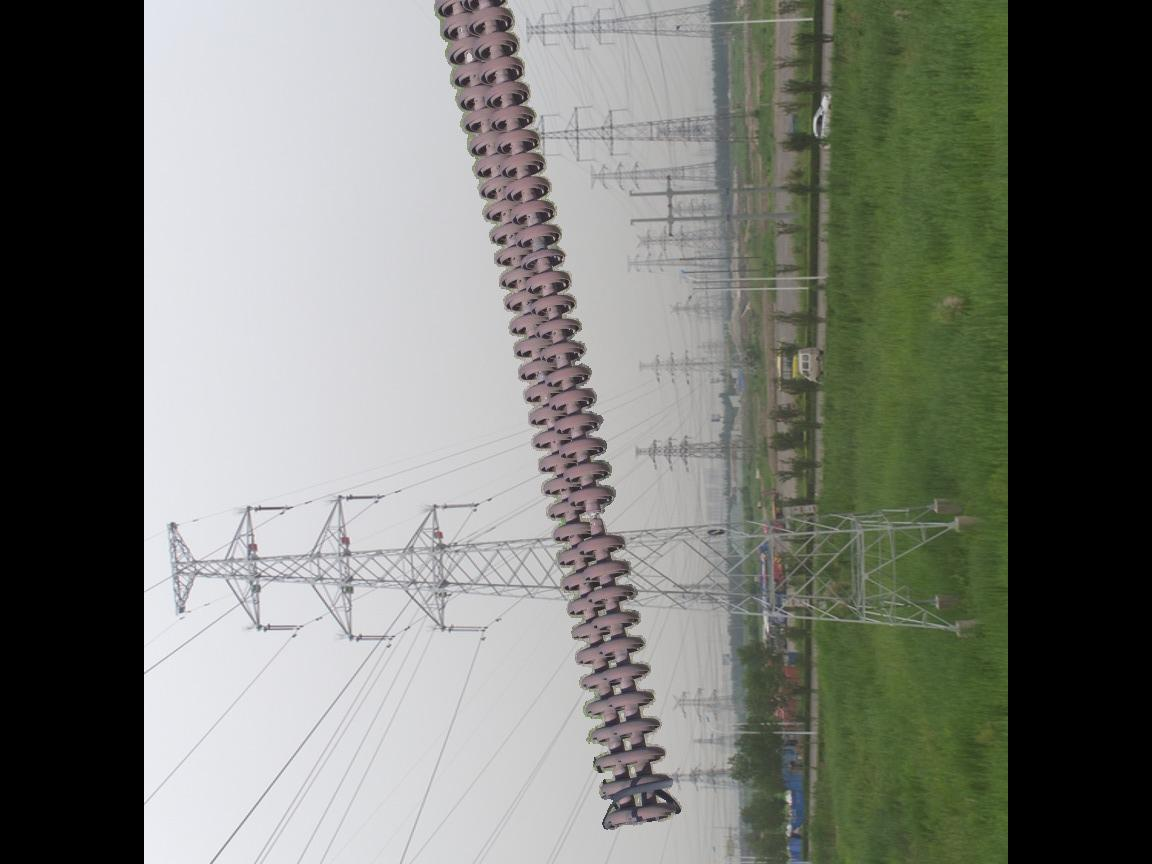insulator: (428, 1, 685, 835)
insulator_stringdrop: (564, 482, 629, 562)
